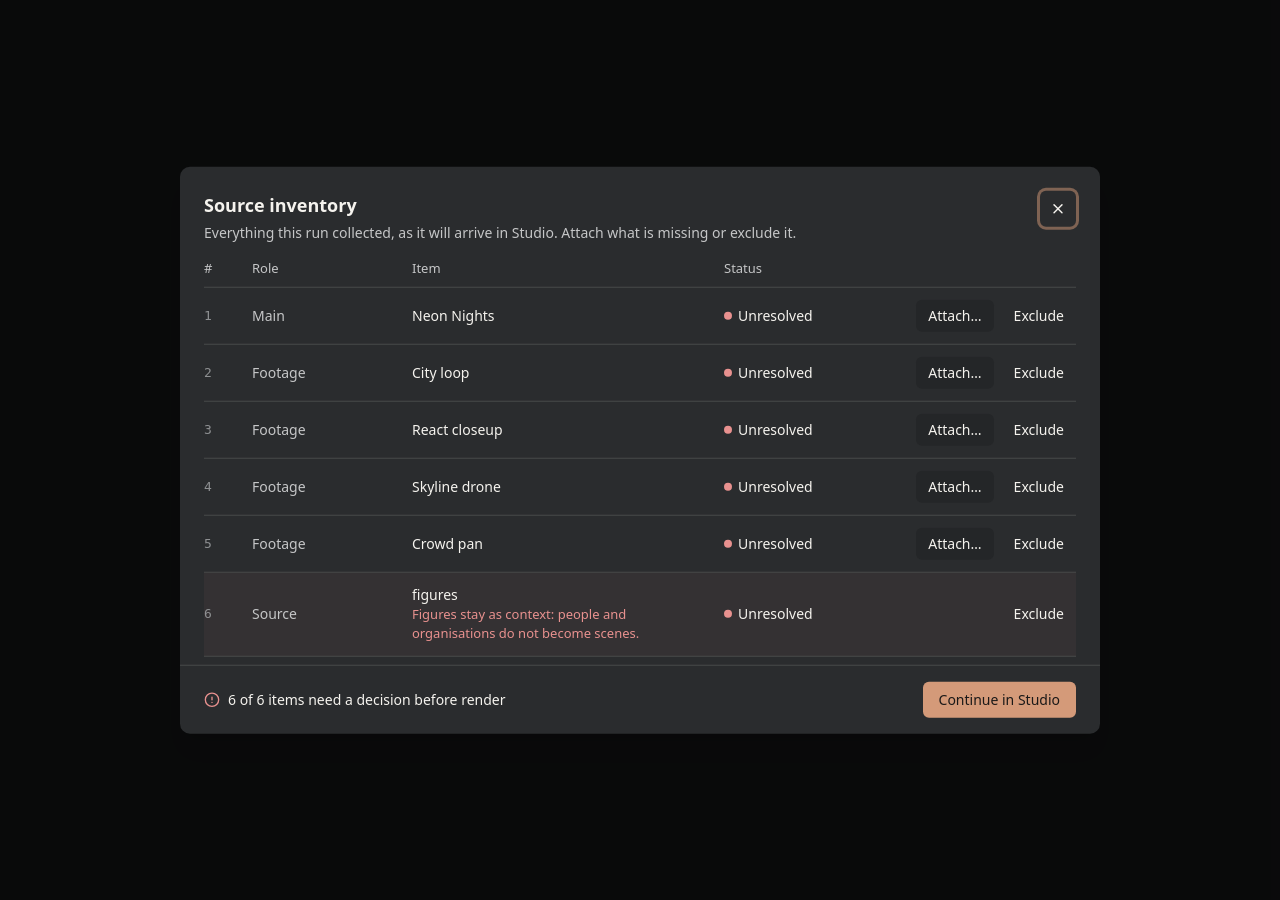
it: an exclusion is saved on the draft and stays listed
This screenshot has width=1280, height=900.
What coordinates should you click on to do the following:
click the button "Exclude" in the row of "React closeup"
I would click on:
 (1039, 429)
Its box is [1002,413,1076,445].
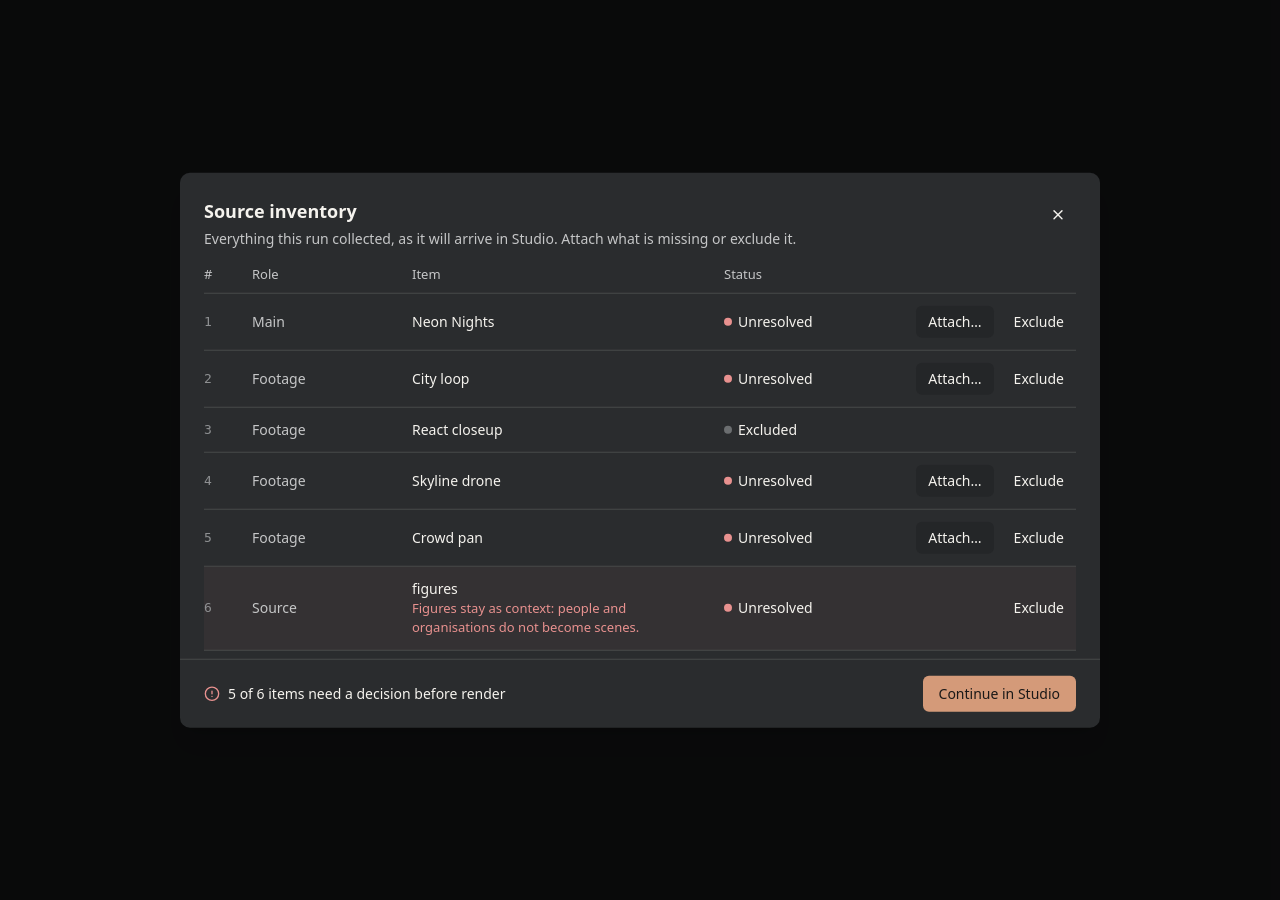
Result: the text "Excluded" is shown at [724,419,797,438]
Result: the text "5 of 6 items need a decision before render" is shown at [204,683,506,703]
